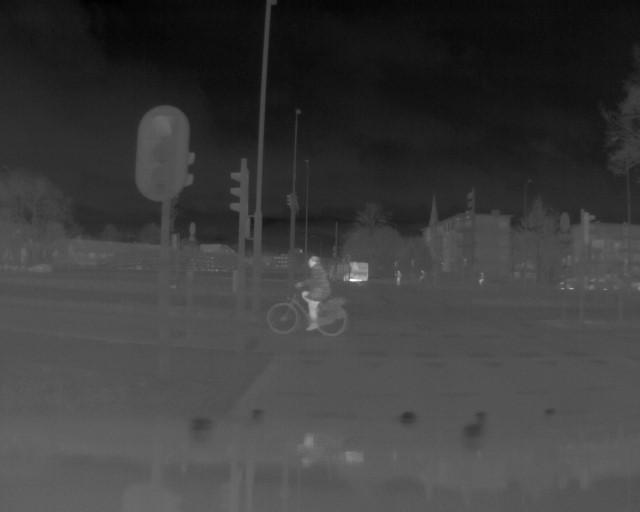person: (299, 256, 331, 335), (395, 267, 404, 290)
